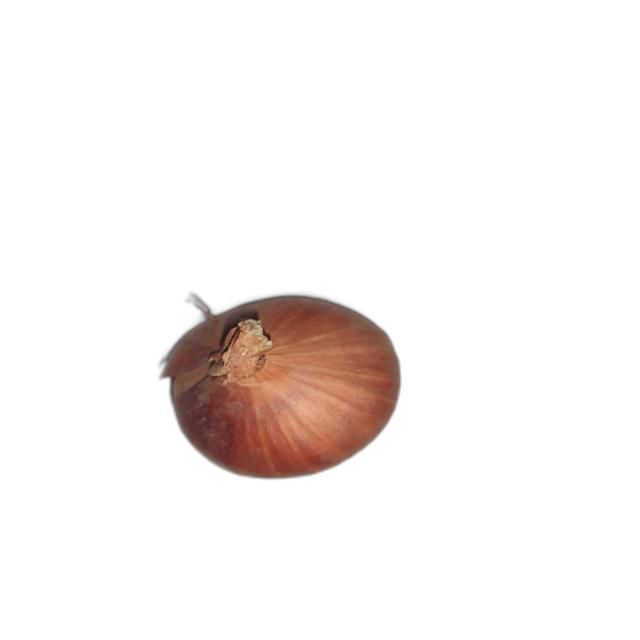onion: (161, 292, 402, 480)
